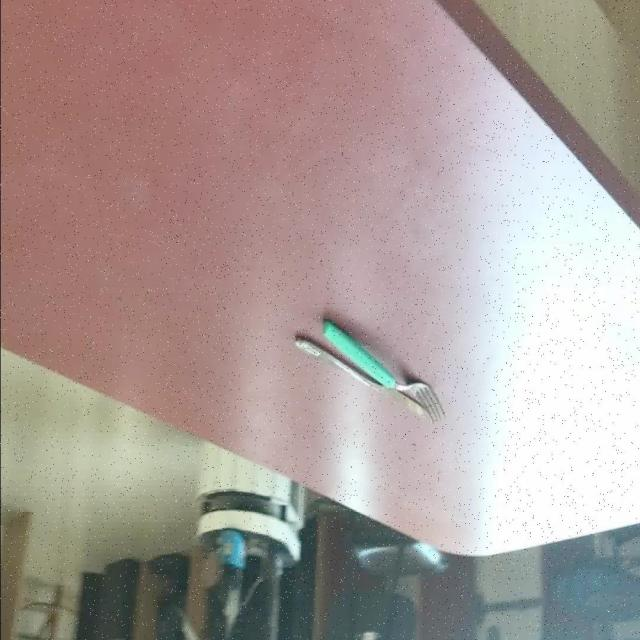Fork: (295, 334, 447, 424), (322, 317, 447, 423)
Knife: (295, 318, 447, 424)
